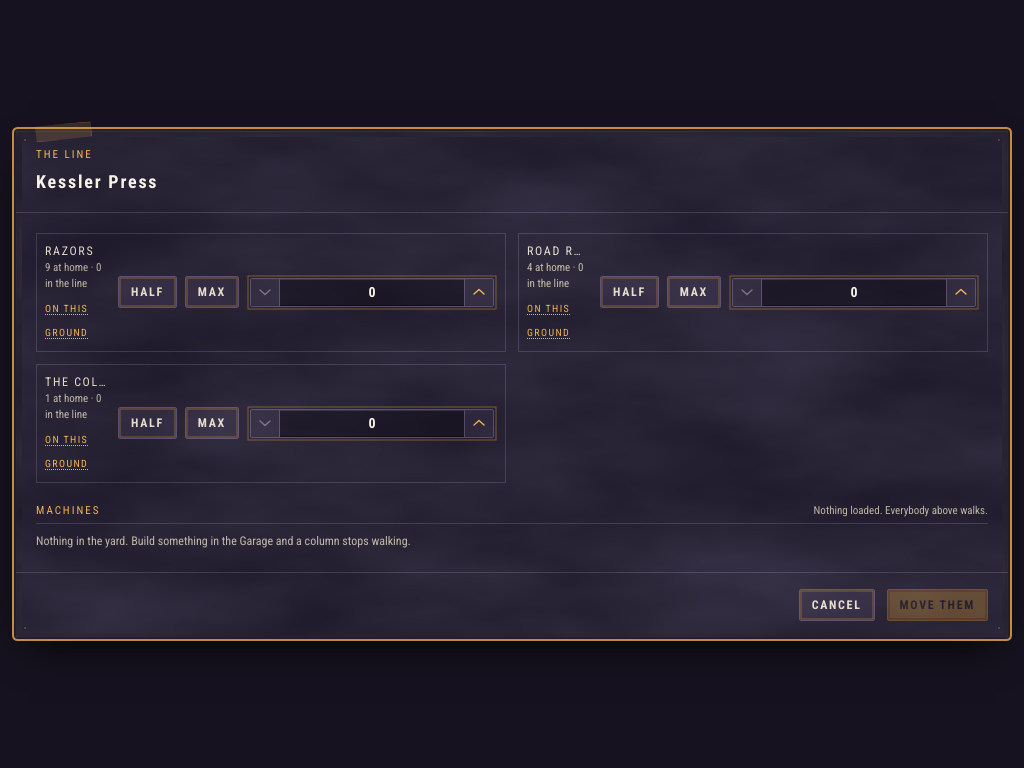
Test: what the machines will seat › puts no ceiling on a column with nothing loaded
The width and height of the screenshot is (1024, 768).
Step 1. Click the button with test id "deploy-max-razors" → (212, 292), box [185,276,239,308]
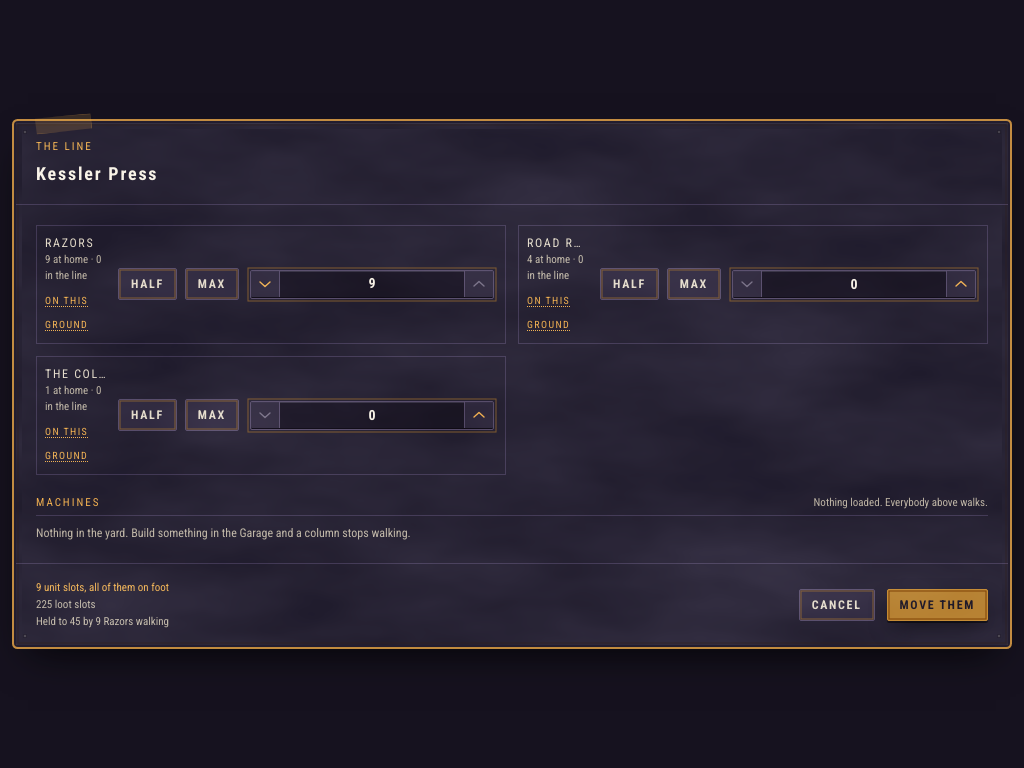
Now the number field with test id "line-razors" holds "9", box [279,270,465,297]
Now the text with test id "deploy-seats" reads "9 unit slots, all of them on foot", box [36,581,169,594]
